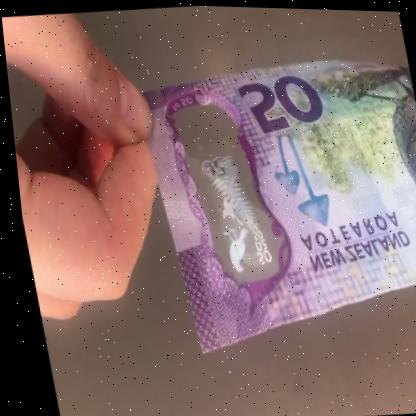50B: (179, 124, 269, 279)
